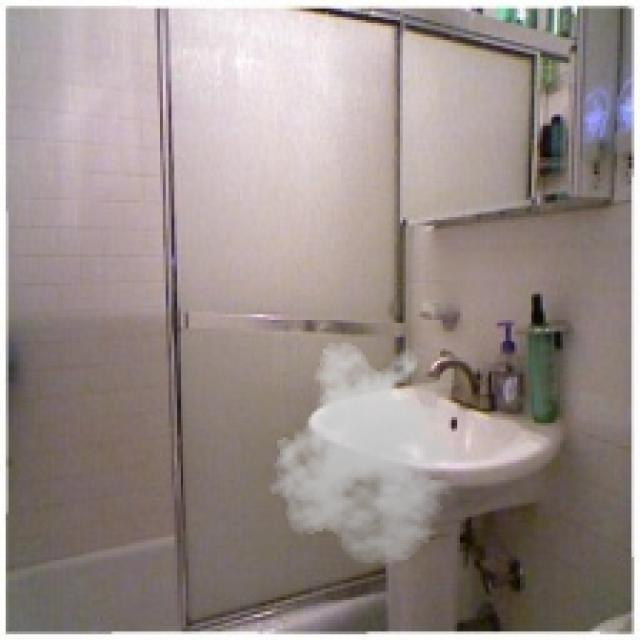Smoke: (262, 340, 474, 566)
